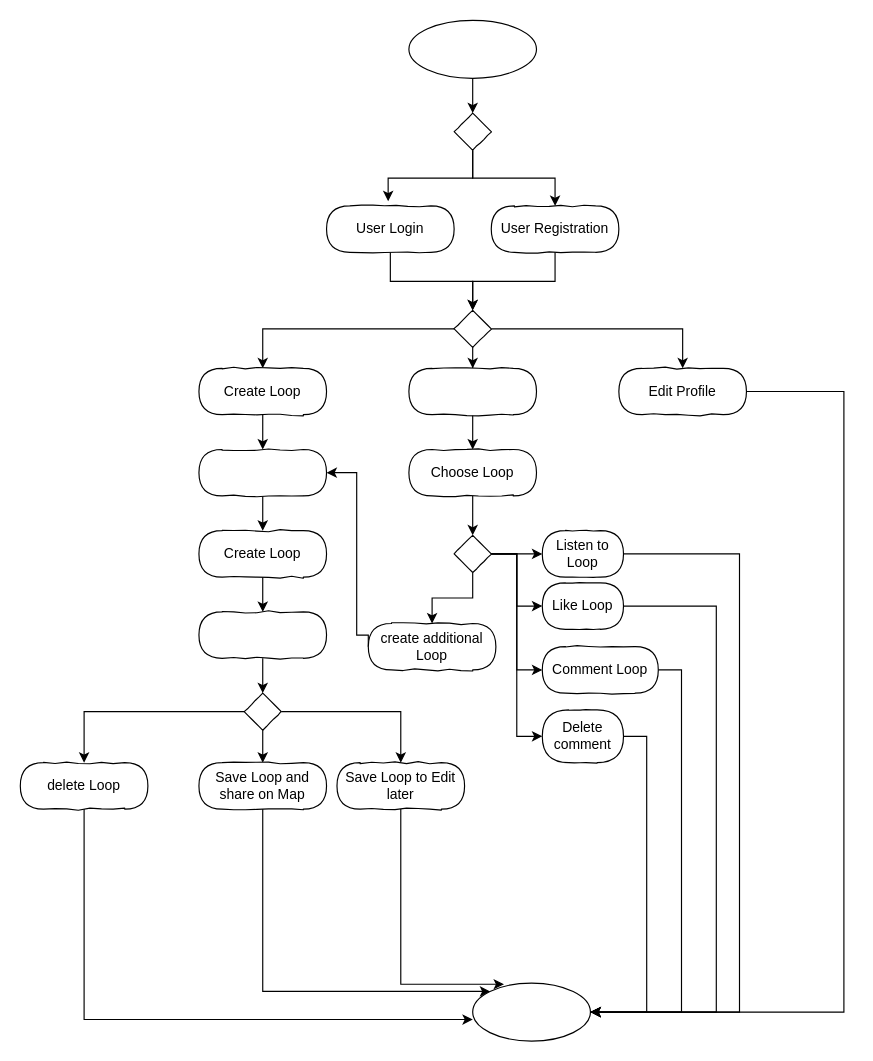
This 873x1061 diagram has some shape labels left out. The box of each missing label's shape, as (x1, y1, x2, y2) in pixels:
Choose Instrument: (198, 448, 327, 496)
Edit Loop: (198, 611, 327, 658)
End: (472, 982, 590, 1041)
Start: (408, 19, 536, 78)
View Worldmap: (408, 367, 536, 415)
